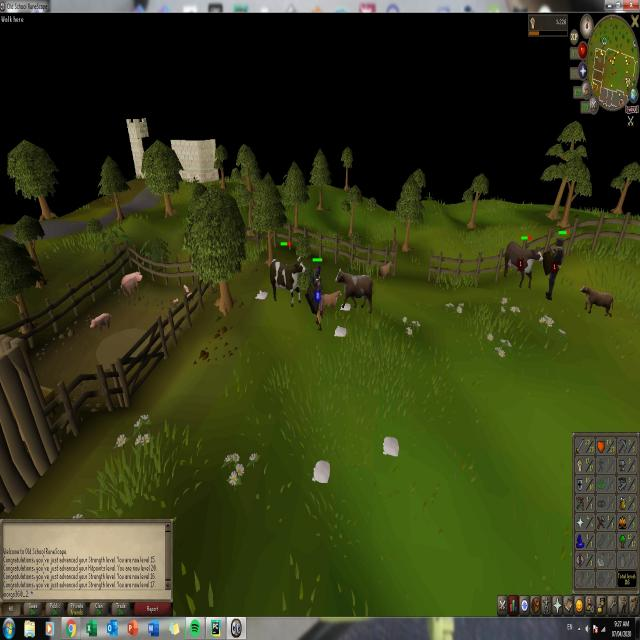cow: (503, 233, 543, 290), (269, 254, 306, 306), (336, 267, 374, 312), (580, 284, 614, 318), (321, 286, 341, 314), (379, 259, 391, 281)
player: (312, 264, 323, 328)
